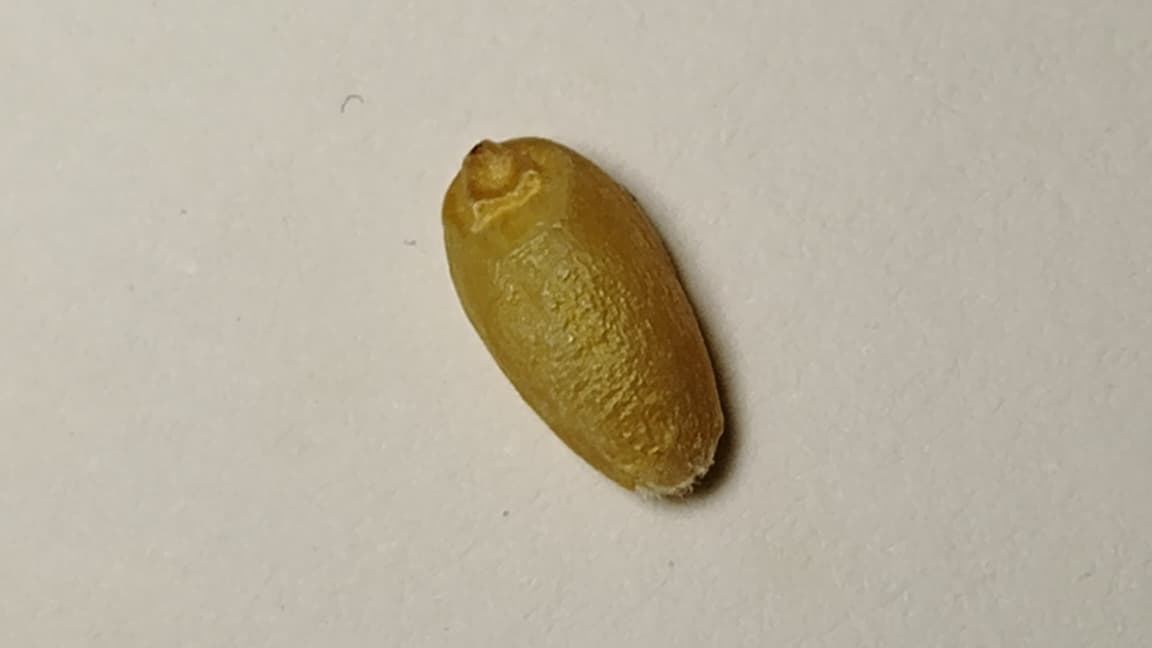healthy: (443, 138, 722, 494)
